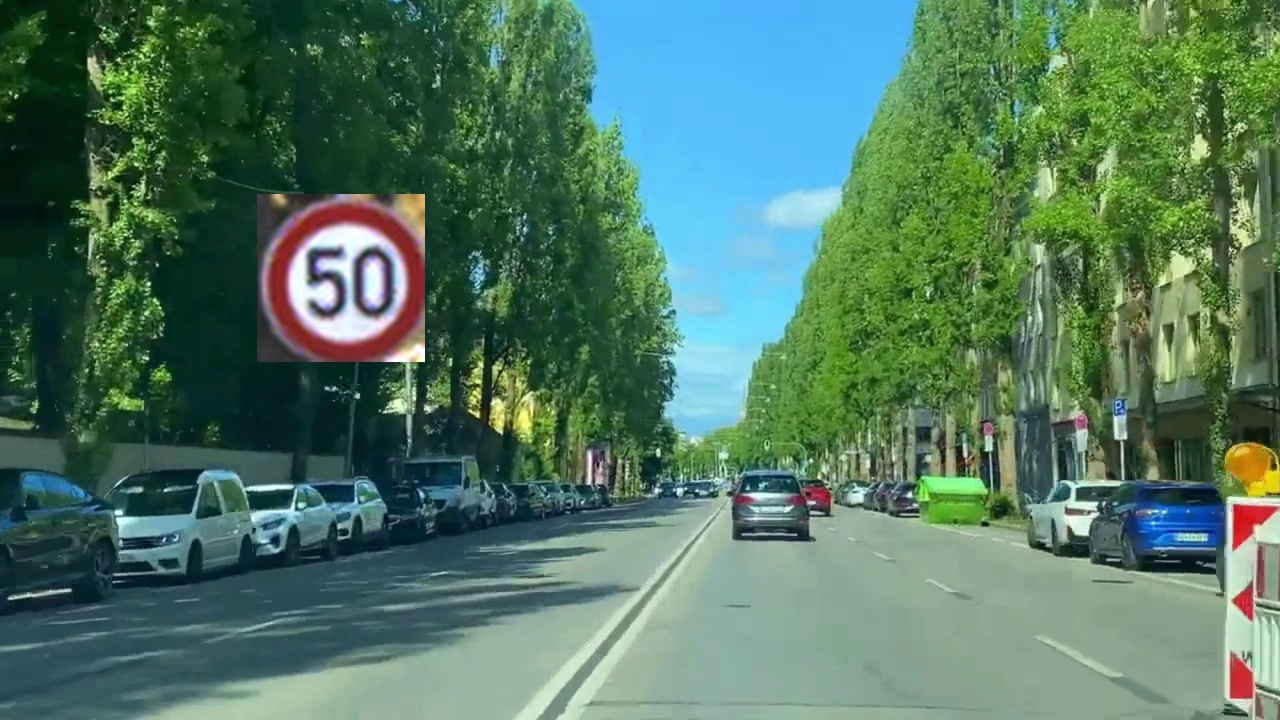Speed 50: (257, 194, 425, 362)
